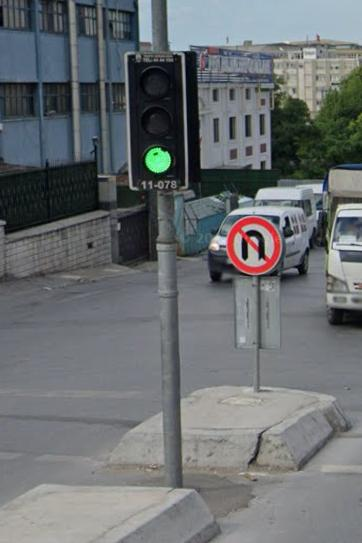greenlight: (125, 59, 185, 193)
